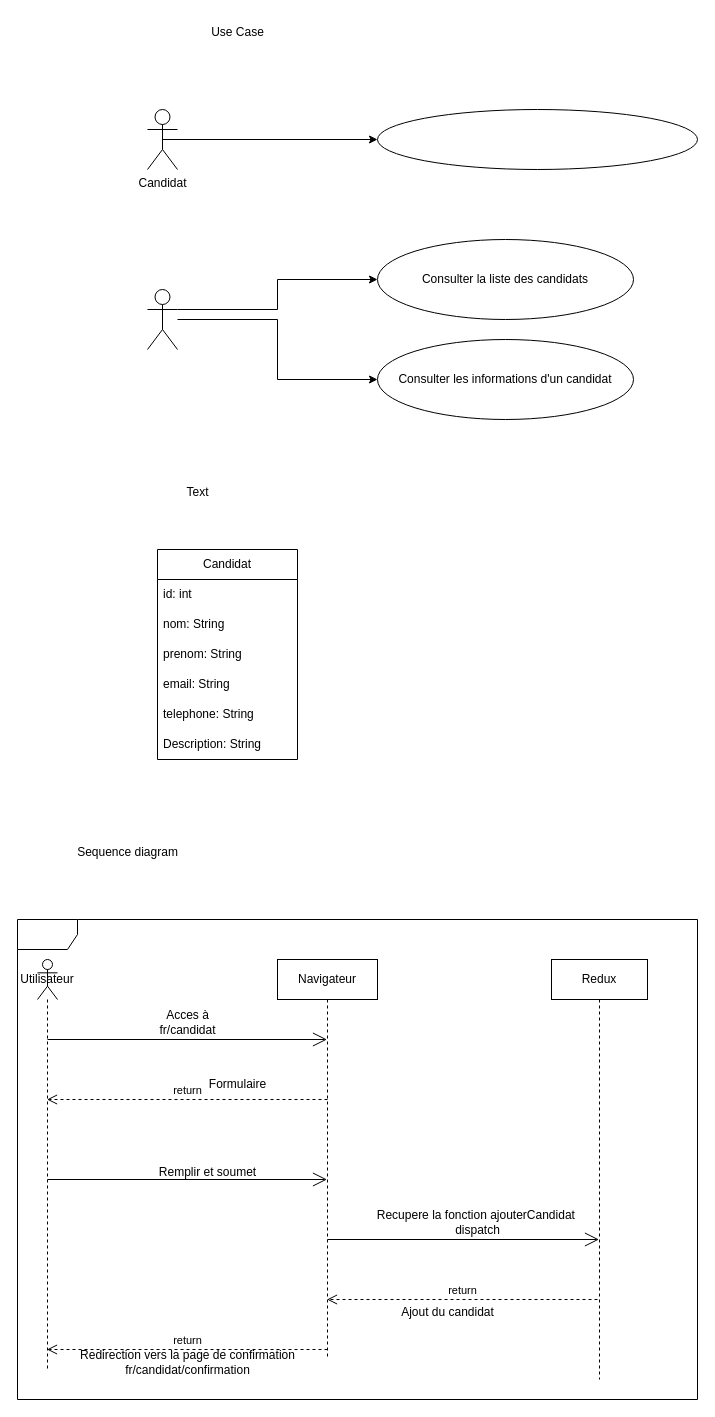
Some shapes in this 715 by 1417 pixel diagram are drawn without their labels. Each missing label, with the centre of its shape:
"Inscription" goes at (357,1159).
"Recruteur" goes at (162,319).
"Remplir le formulaire de candidature" goes at (537,139).
